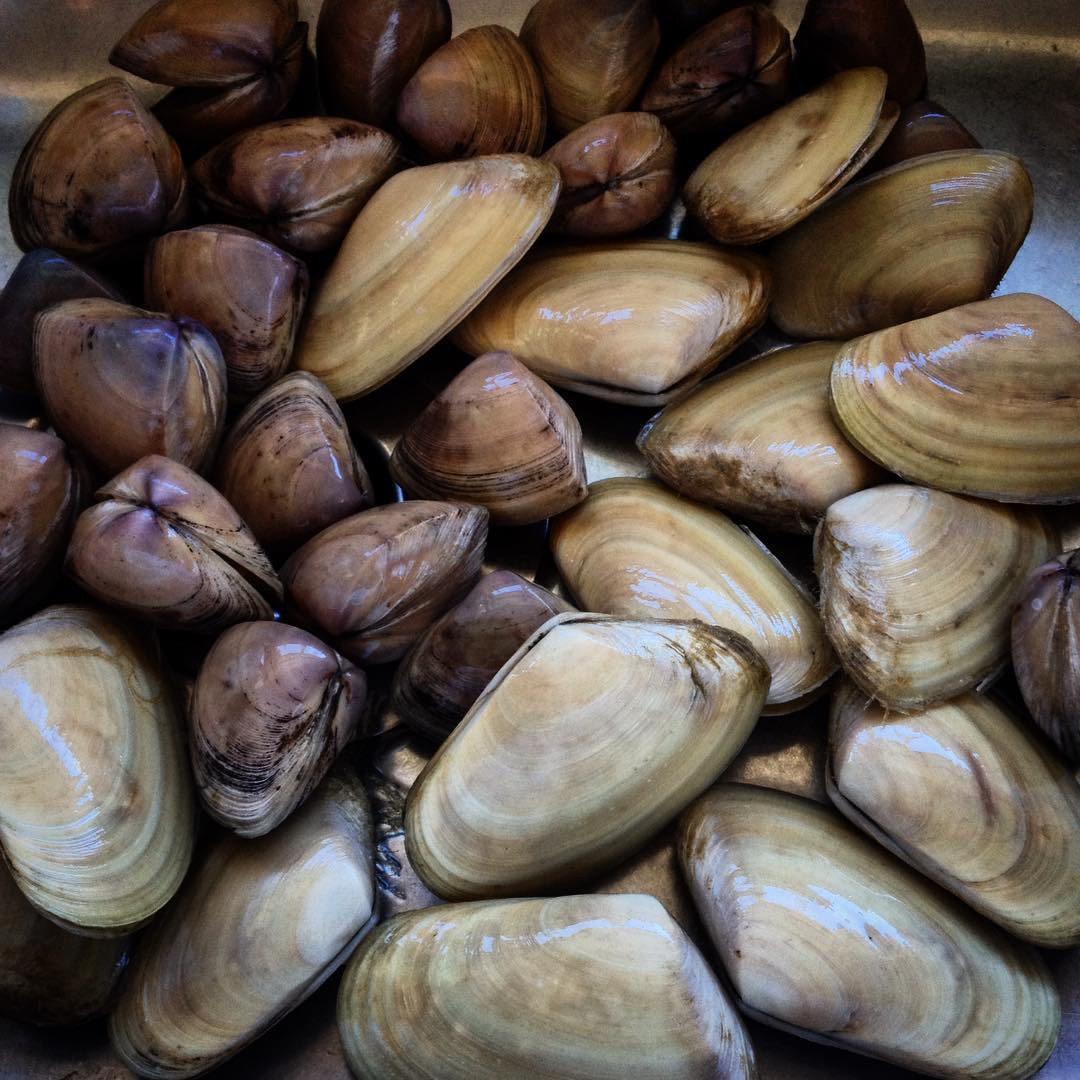tuatua: (668, 774, 1064, 1080), (394, 607, 780, 899), (111, 762, 387, 1064), (337, 890, 771, 1080), (552, 471, 843, 724), (819, 671, 1080, 949), (294, 142, 568, 399), (1, 603, 196, 933), (757, 142, 1041, 344), (827, 287, 1080, 512), (812, 480, 1055, 712), (459, 233, 771, 408), (634, 340, 877, 519), (682, 62, 902, 237)
